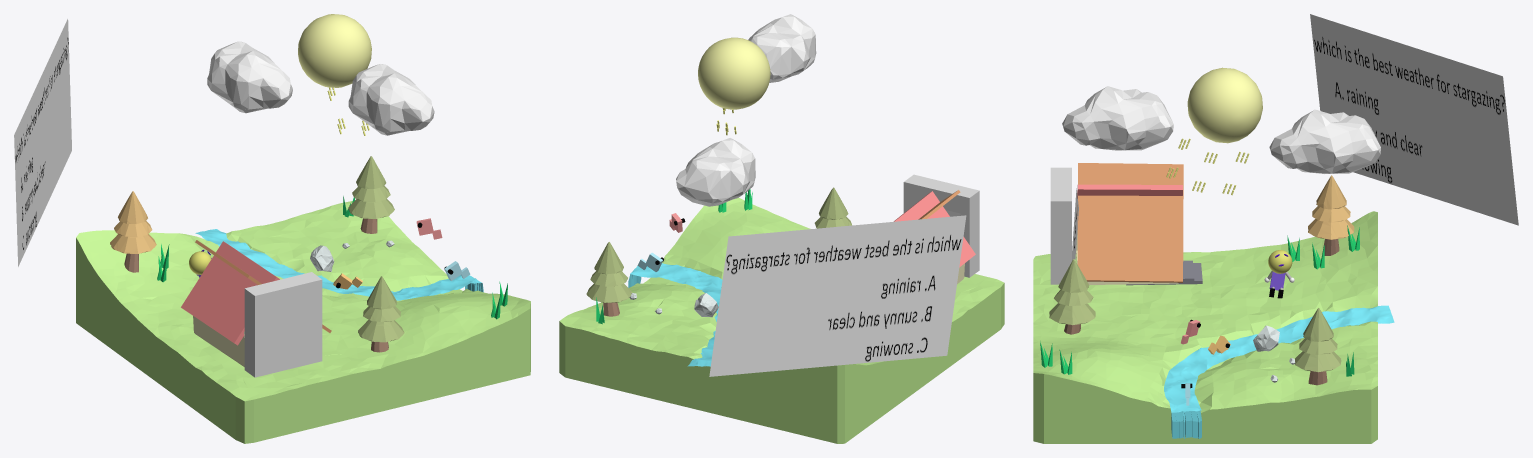
Rendered from sunQ2.glb.
3 renders of one model, left to right at view 1: azimuth 30°, elevation 25°; view 2: azimuth 150°, elevation 25°; view 3: azimuth 270°, elevation 25°, orthographic. The views are drawn at different scales.
Parts seen in each view (by area): view 1: terrain, pPlane2, Cube, house:pCube6, pPlatonic1, pPlatonic1.001, pSphere1.001, water, house:pCube4, pCylinder1, trees:pCylinder8, trees:pCylinder1 (+3 smaller); view 2: terrain, pPlane2, pSphere1.001, pPlatonic1.001, pPlatonic1, Cube, water, house:pCube6, trees:pCylinder1, pCylinder4, trees:pCylinder4, trees:pCylinder3 (+1 smaller); view 3: terrain, pPlane2, house:pCube5, pPlatonic1, pPlatonic1.001, water, pSphere1.001, Cube, house:pCube6, pCylinder1, trees:pCylinder8, trees:pCylinder1 (+7 smaller).
Part boxes in pixels (x1=…): terrain: x1=76, y1=201, x2=530, y2=443; pPlane2: x1=14, y1=19, x2=71, y2=266; Cube: x1=244, y1=272, x2=322, y2=377; house:pCube6: x1=181, y1=241, x2=279, y2=345; pPlatonic1: x1=348, y1=64, x2=434, y2=135; pPlatonic1.001: x1=207, y1=41, x2=292, y2=113; pSphere1.001: x1=298, y1=14, x2=371, y2=87; water: x1=195, y1=229, x2=483, y2=300; house:pCube4: x1=193, y1=316, x2=244, y2=366; pCylinder1: x1=358, y1=319, x2=404, y2=342; trees:pCylinder8: x1=110, y1=234, x2=156, y2=253; trees:pCylinder1: x1=348, y1=199, x2=394, y2=218; terrain: x1=559, y1=197, x2=1004, y2=443; pPlane2: x1=709, y1=215, x2=966, y2=376; pSphere1.001: x1=698, y1=37, x2=770, y2=109; pPlatonic1.001: x1=676, y1=138, x2=755, y2=206; pPlatonic1: x1=748, y1=14, x2=816, y2=82; Cube: x1=903, y1=174, x2=979, y2=277; water: x1=628, y1=263, x2=722, y2=366; house:pCube6: x1=894, y1=191, x2=975, y2=267; trees:pCylinder1: x1=586, y1=283, x2=632, y2=302; pCylinder4: x1=819, y1=187, x2=848, y2=219; trees:pCylinder4: x1=594, y1=242, x2=623, y2=274; trees:pCylinder3: x1=590, y1=271, x2=627, y2=286; terrain: x1=1033, y1=211, x2=1377, y2=443; pPlane2: x1=1310, y1=14, x2=1518, y2=225; house:pCube5: x1=1077, y1=163, x2=1183, y2=282; pPlatonic1: x1=1062, y1=86, x2=1173, y2=150; pPlatonic1.001: x1=1269, y1=109, x2=1380, y2=173; water: x1=1164, y1=305, x2=1394, y2=438; pSphere1.001: x1=1187, y1=67, x2=1262, y2=143; Cube: x1=1050, y1=167, x2=1071, y2=284; house:pCube6: x1=1077, y1=184, x2=1182, y2=198; pCylinder1: x1=1049, y1=303, x2=1095, y2=325; trees:pCylinder8: x1=1308, y1=218, x2=1354, y2=239; trees:pCylinder1: x1=1295, y1=351, x2=1341, y2=372.
Bounding box in the file's own units: 0.4613 × 0.3564 × 0.4738.
35 materials, 2 textured.
